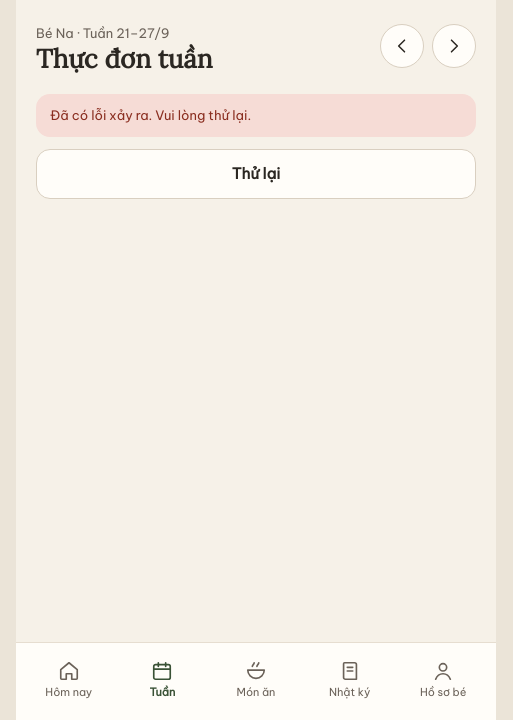
Scenario: Week (S04, UC-12) › offers a retry when the week cannot be loaded
Click the button "Thử lại" at (256,174), box left=36, top=149, right=476, bottom=199
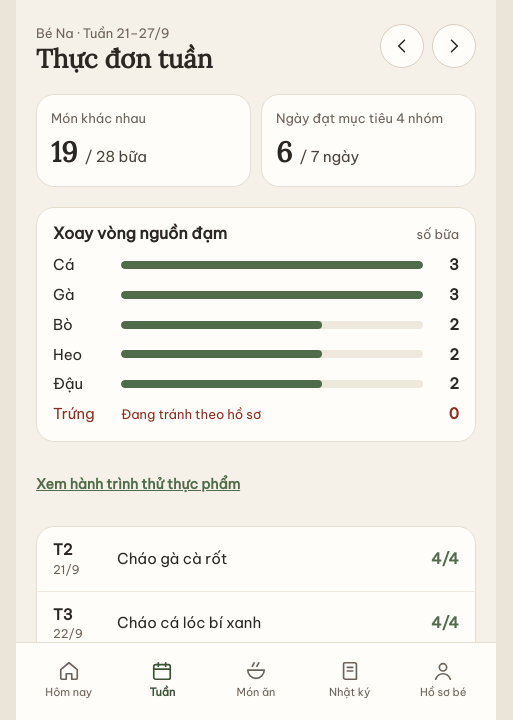
Now the text "Món khác nhau" is shown, box left=51, top=110, right=146, bottom=126
